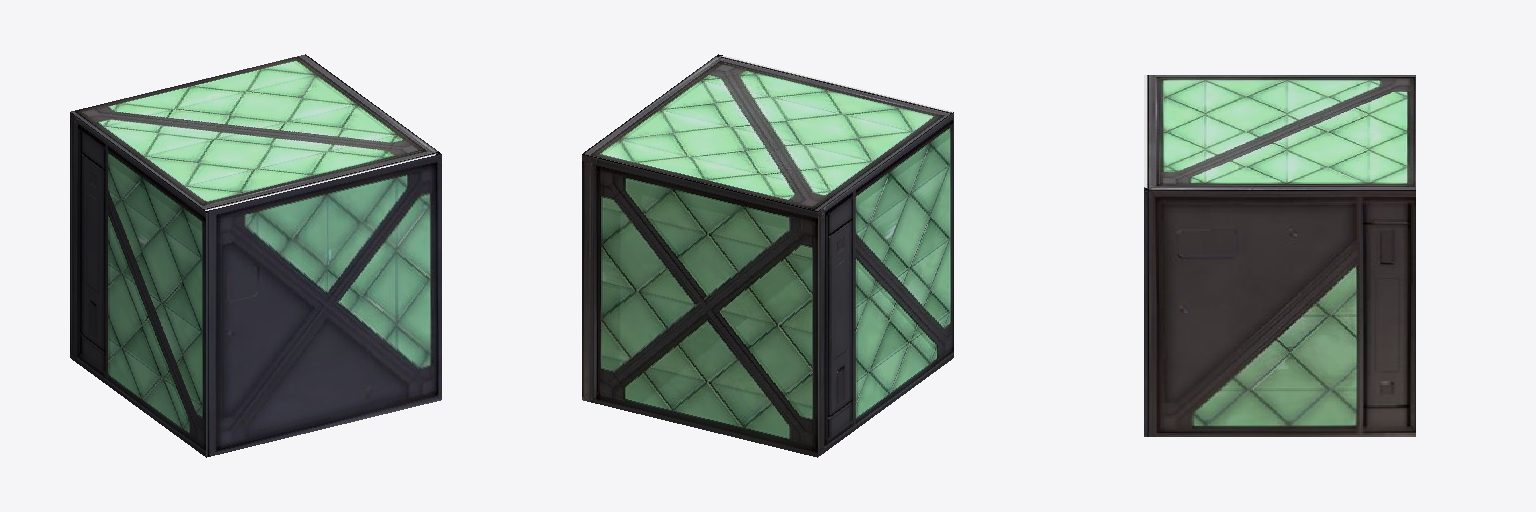
3 views of the same model, side by side, from view 1: azimuth 30°, elevation 25°; view 2: azimuth 150°, elevation 25°; view 3: azimuth 270°, elevation 25° (orthographic).
Parts seen in each view (by area): view 1: Cube; view 2: Cube; view 3: Cube.
Boxes of the visible parts, <box> form: Cube: <box>70,54,441,457</box>; Cube: <box>582,54,953,457</box>; Cube: <box>1144,75,1415,436</box>.
Size of the model in its own units: 2 by 2 by 2.
1 materials, 1 textured.